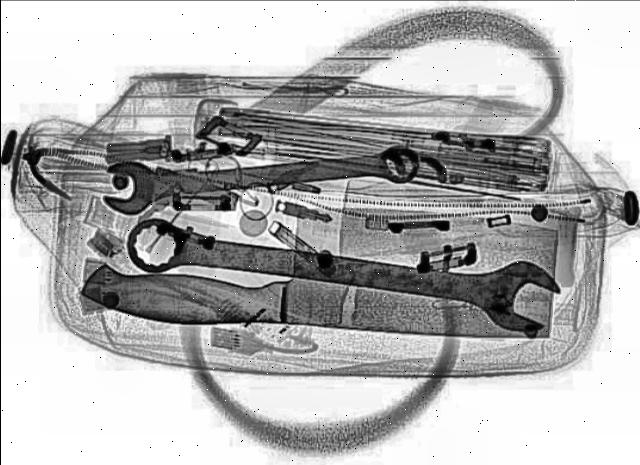Knife: (75, 200, 558, 340)
Wrench: (112, 208, 568, 337), (94, 135, 423, 219)
